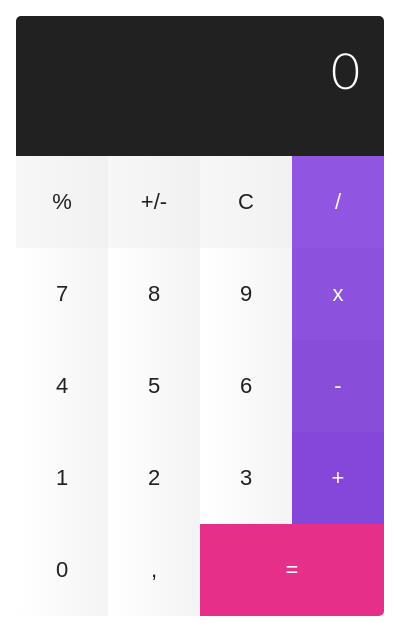
Scenario: Calculator › clears input and output when new equation starts
Step 1. Click the button "2" → (154, 478), box 108,432 -> 200,524
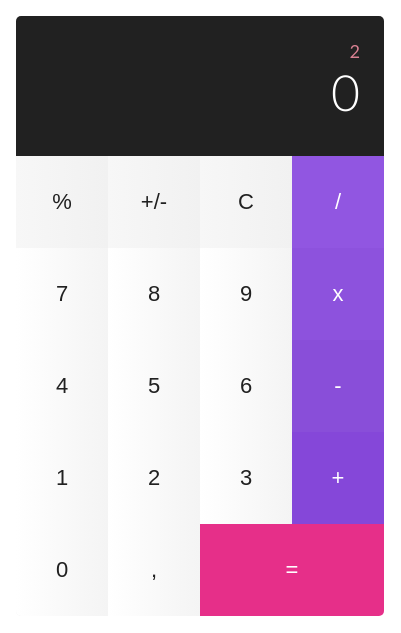
Step 2. Click the button "+" → (338, 478), box 292,432 -> 384,524
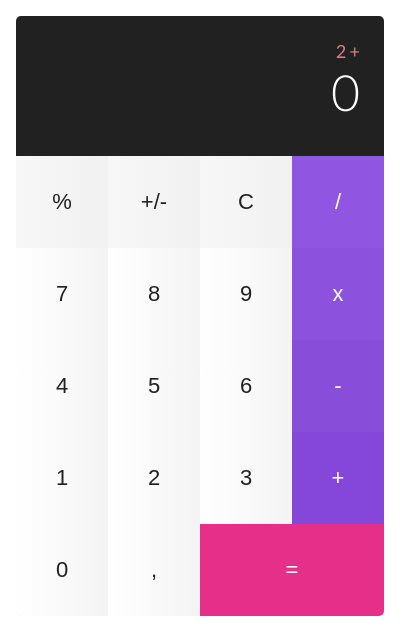
Step 3. Click the button "2" → (154, 478), box 108,432 -> 200,524
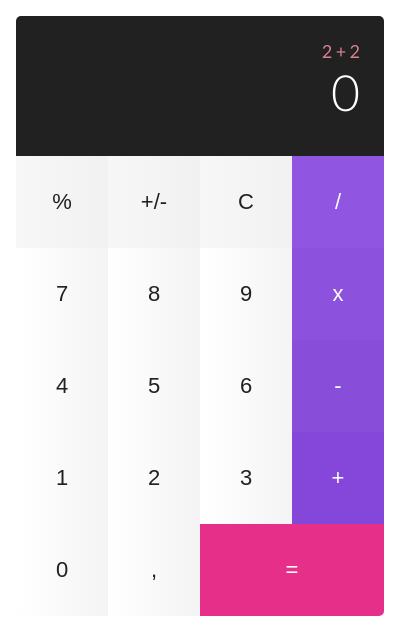
Step 4. Click the button "=" → (292, 570), box 200,524 -> 384,616
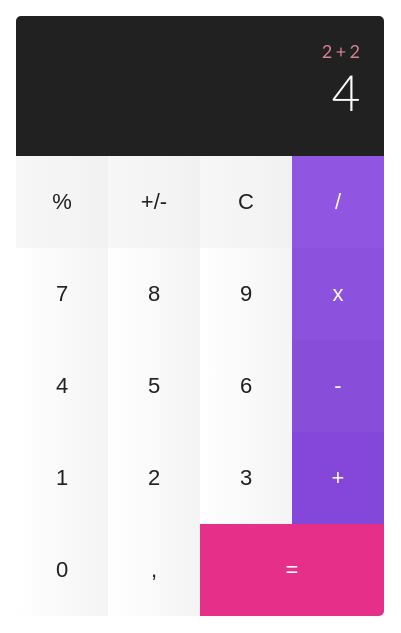
expect the text "2 + 2" is shown: met, box 322,40 -> 360,62
expect the text with class "output" reads "4": met, box 331,62 -> 360,122
Step 5. Click the button "9" → (246, 294), box 200,248 -> 292,340
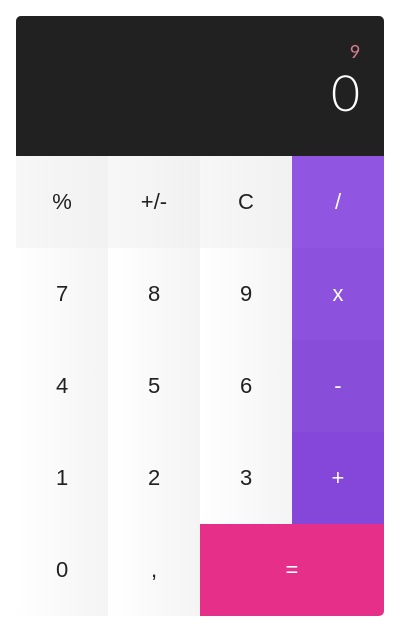
expect the text "9" is shown: met, box 350,40 -> 360,62
expect the text with class "output" reads "0": met, box 331,62 -> 360,122
